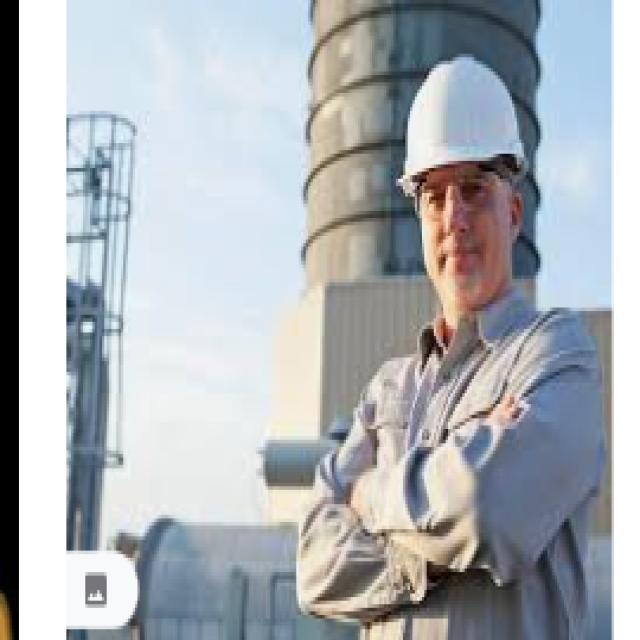glasses: (416, 171, 494, 226)
